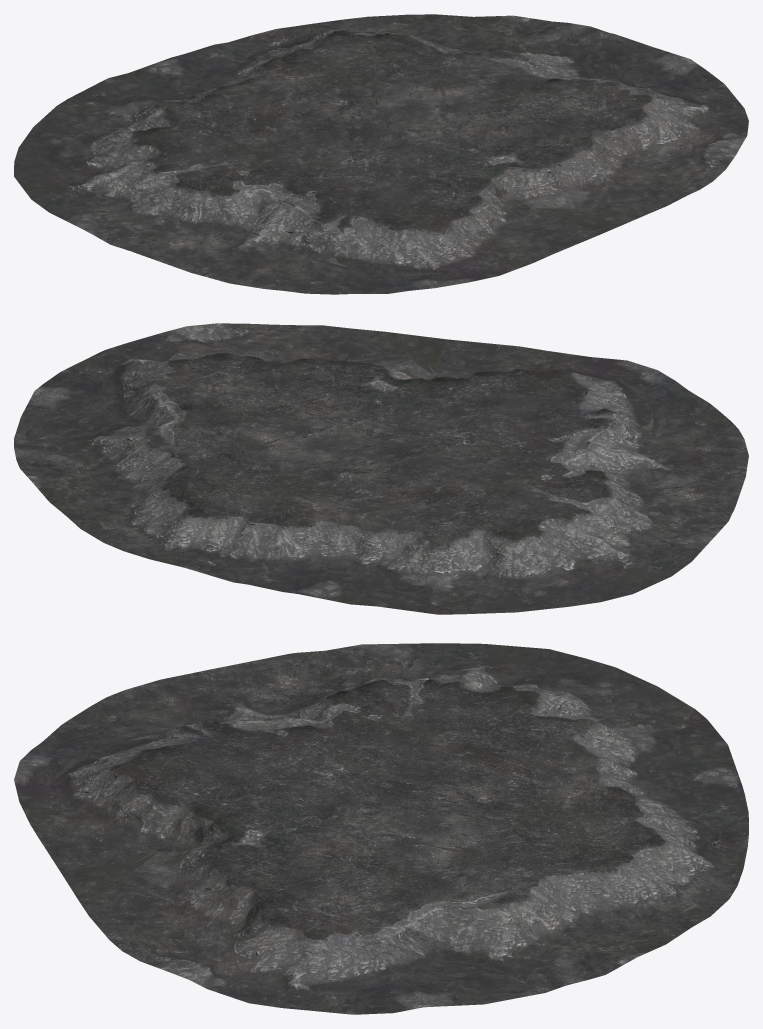
File: Terrace_02_4K_GREY.fbx
3 views of the same model, one above another, from view 1: azimuth 30°, elevation 25°; view 2: azimuth 150°, elevation 25°; view 3: azimuth 270°, elevation 25° (orthographic). The views are drawn at different scales.
Parts seen in each view (by area): view 1: Terrace_02_4K_GREY; view 2: Terrace_02_4K_GREY; view 3: Terrace_02_4K_GREY.
Part boxes in pixels (x1,y1,x2,y2): Terrace_02_4K_GREY: (14, 14, 748, 294); Terrace_02_4K_GREY: (14, 323, 748, 614); Terrace_02_4K_GREY: (14, 643, 748, 1014).
Bounding box in the file's own units: 138 × 4.67 × 115.
1 material, 1 textured.
